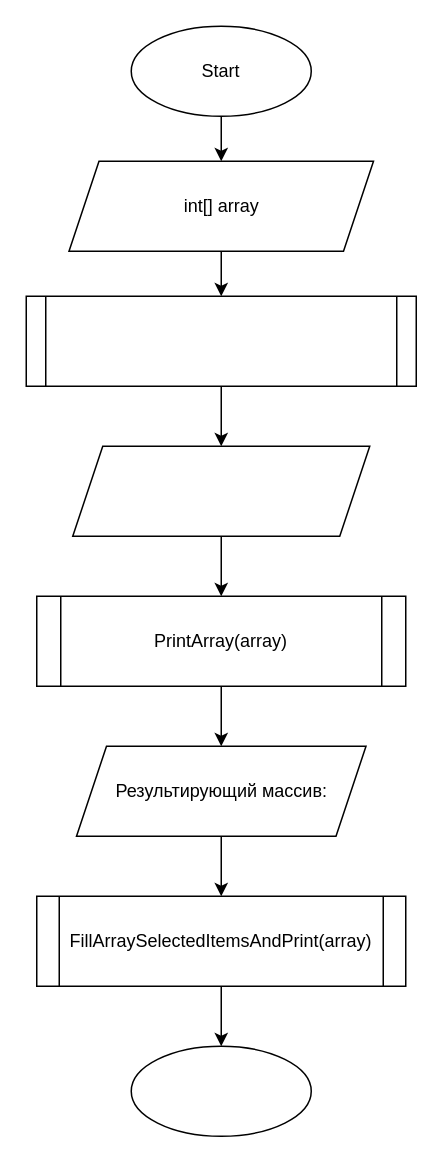
Some shapes in this 443 by 1163 pixel diagram are drawn without their labels. Here are the shapes that lost their labels. From the top down, the centre of each, then its label:
At point (220, 340): "FillArray(array)".
At point (220, 490): "Исходный массив:".
At point (220, 1090): "End".
